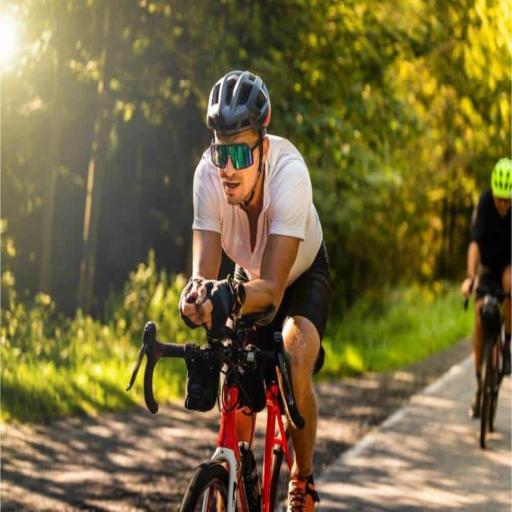no_helm: (193, 50, 281, 230)
